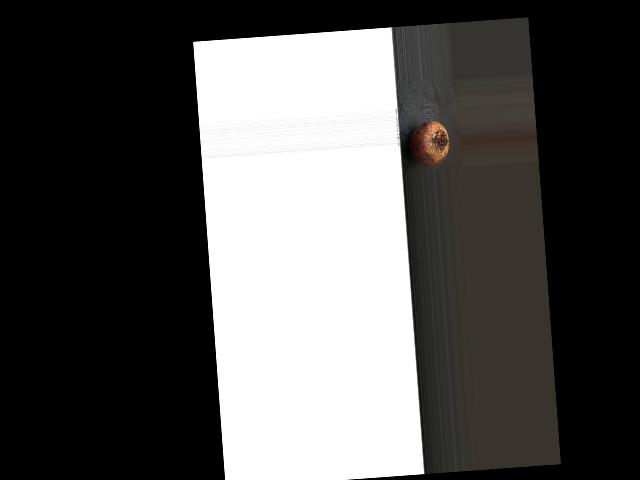beet: (408, 120, 450, 168)
